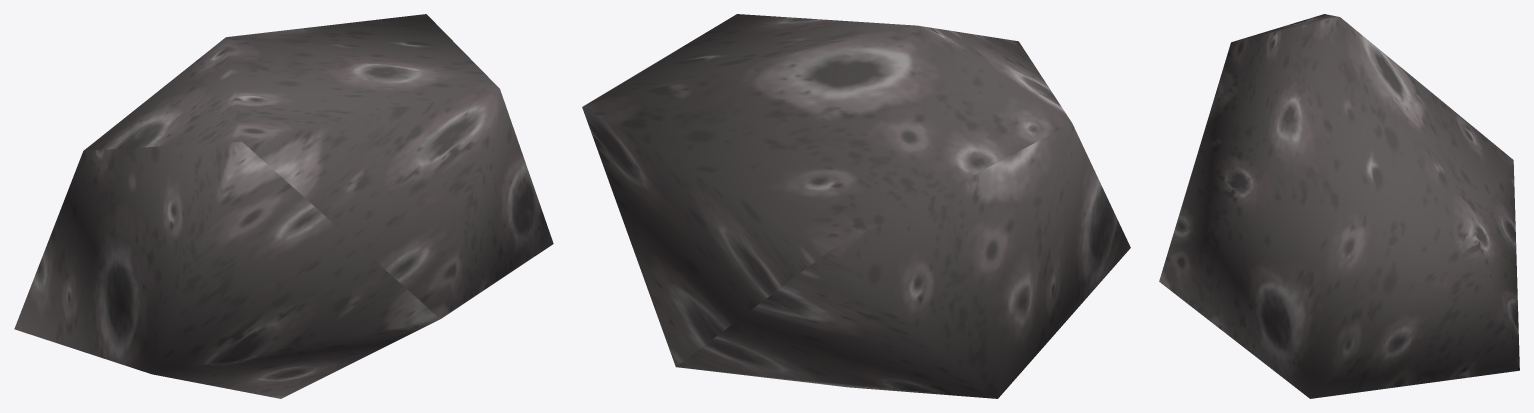
File: asteroid_03.fbx
3 renders of one model, left to right at view 1: azimuth 30°, elevation 25°; view 2: azimuth 150°, elevation 25°; view 3: azimuth 270°, elevation 25°, orthographic. The views are drawn at different scales.
Parts seen in each view (by area): view 1: asteroid_03; view 2: asteroid_03; view 3: asteroid_03.
Boxes of the visible parts, bbox=[...] form: asteroid_03: bbox=[14, 14, 553, 398]; asteroid_03: bbox=[582, 14, 1130, 398]; asteroid_03: bbox=[1159, 14, 1519, 398].
Size of the model in its own units: 13122 by 10399 by 9804.
